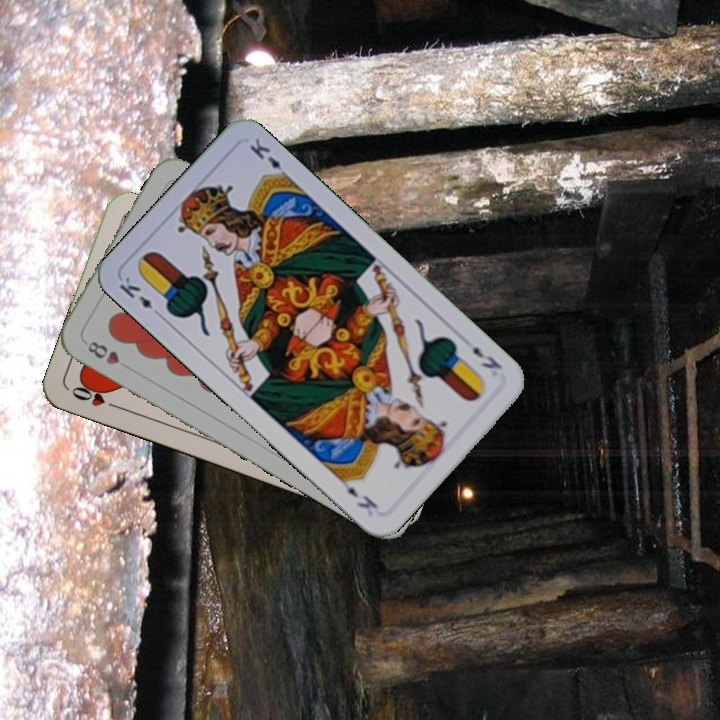EK: (114, 272, 165, 321), (468, 342, 505, 372)
H8: (83, 337, 134, 373)
HO: (67, 379, 123, 412)
